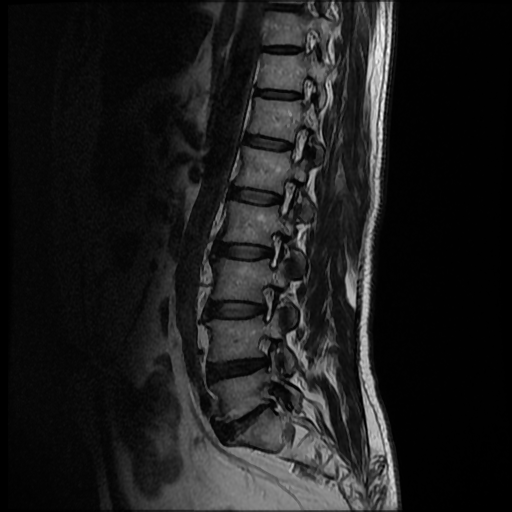LFS0: (251, 276, 285, 328), (258, 223, 292, 275), (267, 173, 302, 221)
LFS3: (251, 332, 289, 377)
